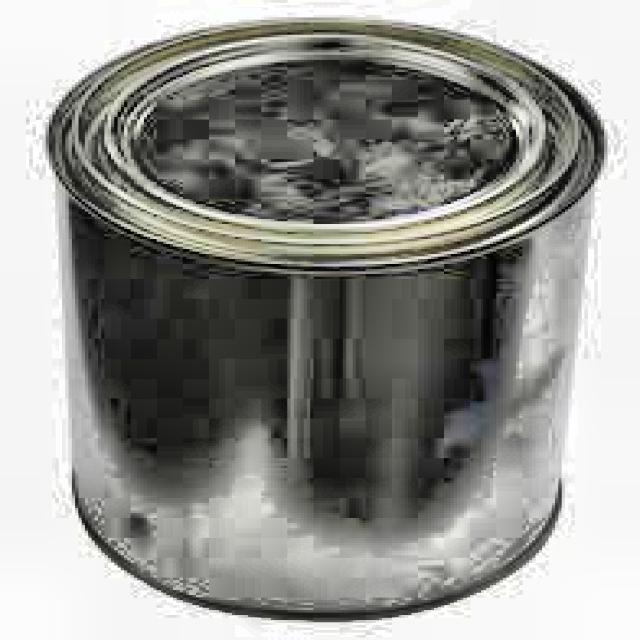Cans: (0, 0, 630, 636)
